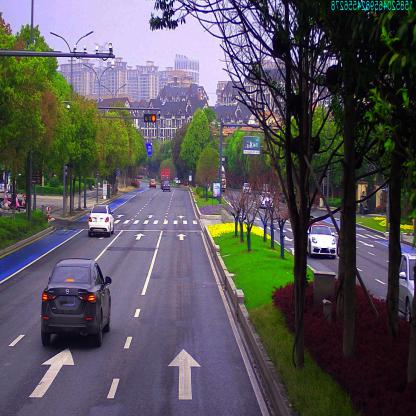traffic-light: (144, 114, 154, 124)
